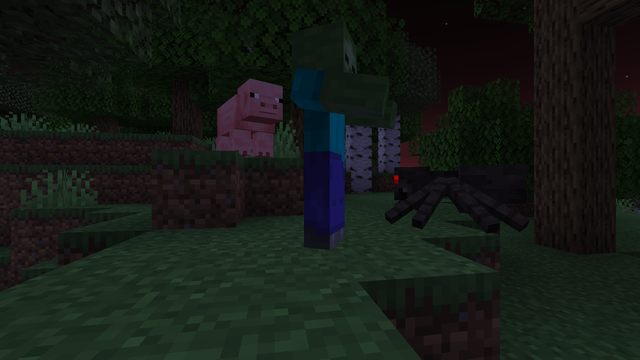araignees: (380, 156, 526, 231)
cochons: (209, 93, 271, 158)
zombies: (293, 24, 364, 251)
